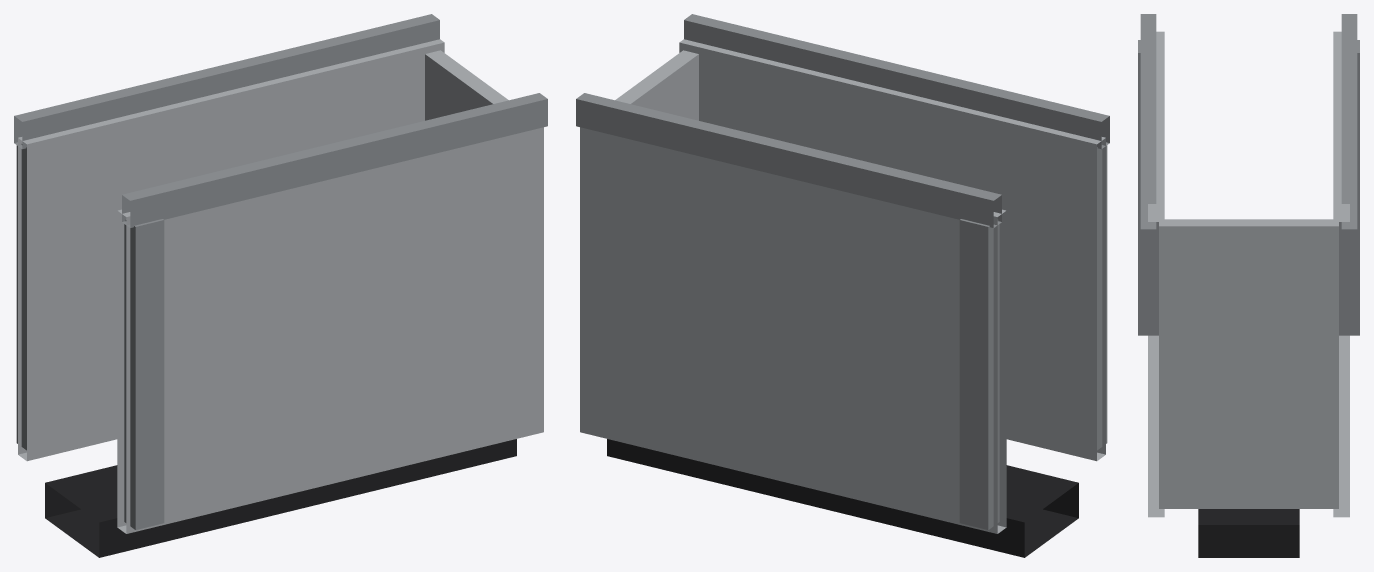
File: crash_cushion_bay_inv.obj
3 renders of one model, left to right at view 1: azimuth 30°, elevation 25°; view 2: azimuth 150°, elevation 25°; view 3: azimuth 270°, elevation 25°, orthographic. The views are drawn at different scales.
Parts seen in each view (by area): view 1: crash_cushion_bay_inv; view 2: crash_cushion_bay_inv; view 3: crash_cushion_bay_inv.
Part boxes in pixels (left/top/right/bottom): crash_cushion_bay_inv: left=14, top=14, right=547, bottom=557; crash_cushion_bay_inv: left=576, top=14, right=1109, bottom=557; crash_cushion_bay_inv: left=1138, top=14, right=1359, bottom=557.
Bounding box in the file's own units: 1 × 0.8687 × 0.4938.
